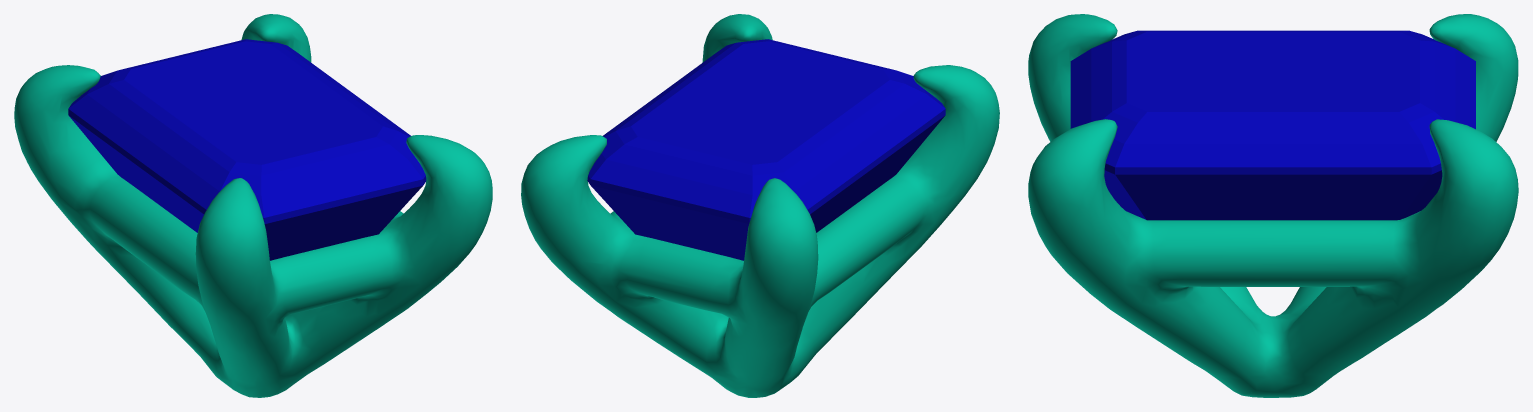
The model's file is Emerald.glb.
3 renders of one model, left to right at view 1: azimuth 30°, elevation 25°; view 2: azimuth 150°, elevation 25°; view 3: azimuth 270°, elevation 25°, orthographic. The views are drawn at different scales.
Parts seen in each view (by area): view 1: /GSMOD388300- CLAW PRONG_Emerald_IJ.3dm, Diamond_Emerald; view 2: /GSMOD388300- CLAW PRONG_Emerald_IJ.3dm, Diamond_Emerald; view 3: /GSMOD388300- CLAW PRONG_Emerald_IJ.3dm, Diamond_Emerald.
Part boxes in pixels (x1=…): /GSMOD388300- CLAW PRONG_Emerald_IJ.3dm: x1=14, y1=14, x2=492, y2=397; Diamond_Emerald: x1=68, y1=39, x2=426, y2=260; /GSMOD388300- CLAW PRONG_Emerald_IJ.3dm: x1=521, y1=14, x2=999, y2=397; Diamond_Emerald: x1=587, y1=39, x2=945, y2=260; /GSMOD388300- CLAW PRONG_Emerald_IJ.3dm: x1=1028, y1=14, x2=1518, y2=397; Diamond_Emerald: x1=1070, y1=30, x2=1475, y2=220.
Bounding box in the file's own units: 6.91 × 6.52 × 9.08.
